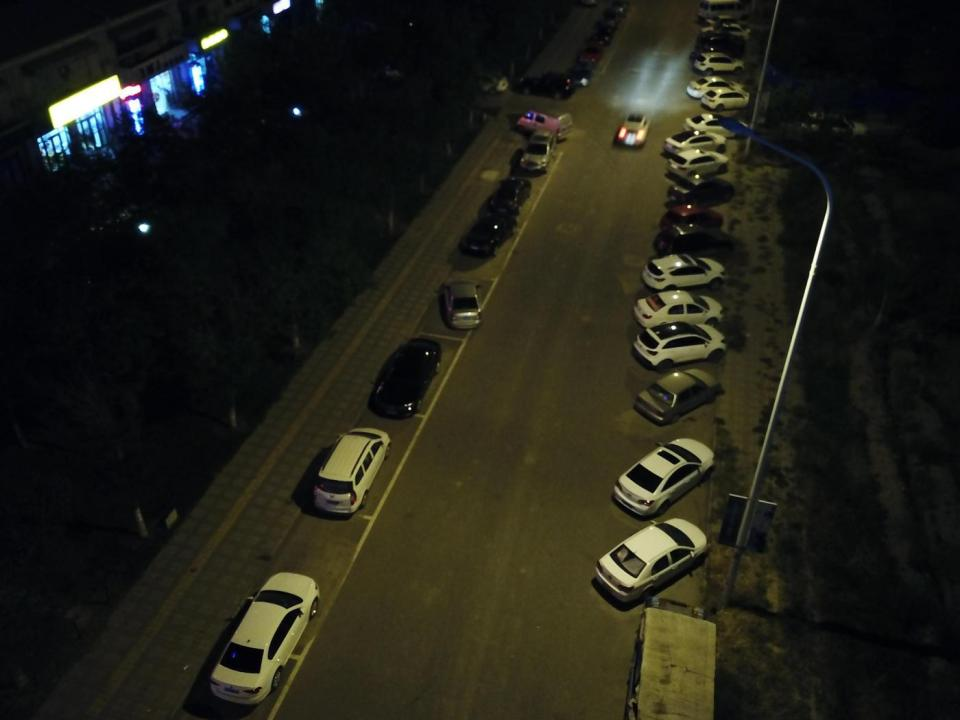car: (211, 572, 322, 704), (594, 516, 709, 606), (613, 436, 715, 517), (308, 426, 399, 516), (630, 365, 724, 427), (373, 334, 442, 417), (630, 317, 729, 368), (633, 288, 726, 334), (637, 251, 726, 294), (792, 103, 870, 146), (651, 220, 734, 260), (664, 172, 738, 207), (653, 202, 727, 235), (459, 213, 513, 258), (515, 127, 561, 173), (443, 279, 481, 332), (685, 71, 745, 102), (667, 128, 728, 158), (515, 70, 577, 99), (489, 174, 531, 213), (461, 64, 509, 98), (688, 113, 752, 138), (667, 149, 728, 175), (701, 86, 761, 112), (693, 49, 748, 77), (612, 110, 650, 147), (698, 30, 745, 52), (690, 46, 742, 65), (701, 22, 751, 41), (571, 58, 599, 86), (577, 40, 605, 64), (591, 20, 617, 45), (600, 5, 622, 30), (706, 16, 741, 29)
truck: (623, 595, 722, 718)
van: (510, 106, 572, 144), (694, 1, 750, 20)
